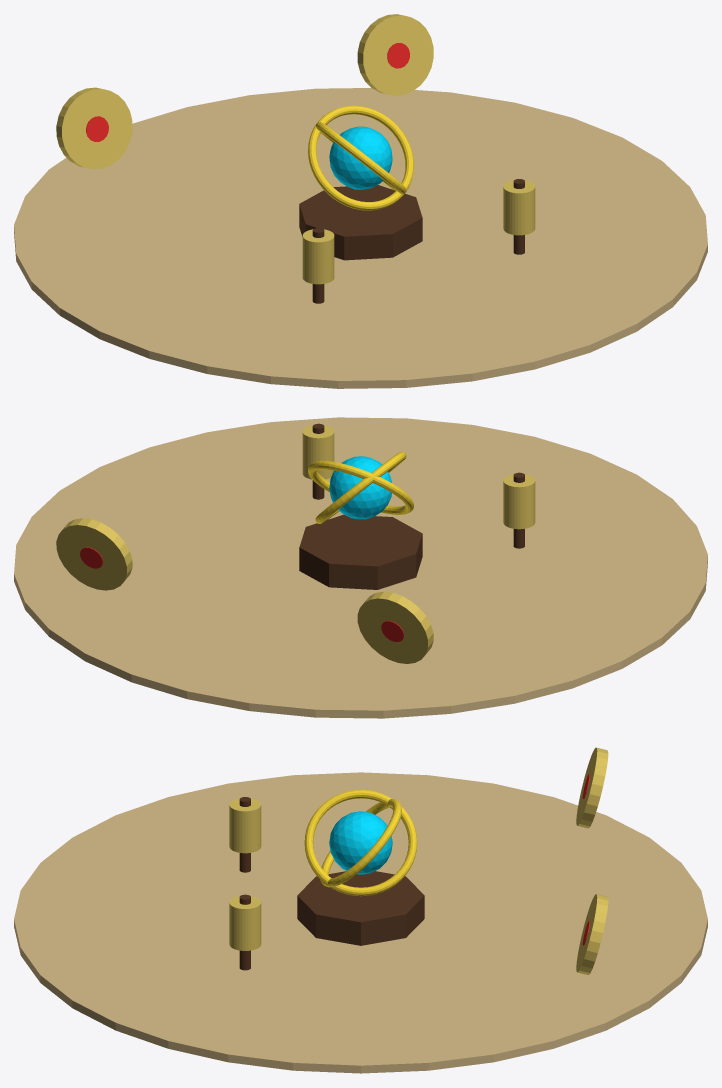
Rendered from Arena_Entrenamiento_Spectacular.obj.
3 views of the same model, one above another, from view 1: azimuth 30°, elevation 25°; view 2: azimuth 150°, elevation 25°; view 3: azimuth 270°, elevation 25° (orthographic).
Visible parts, largest first — view 1: Sand_Arena_Plate, Pedestal_Base, Archery_Target_1, Archery_Target_2, Armillary_Ring_1, Floating_Mana_Orb, Dummy_Body_1, Dummy_Body_2, Armillary_Ring_2; view 2: Sand_Arena_Plate, Pedestal_Base, Archery_Target_2, Archery_Target_1, Floating_Mana_Orb, Dummy_Body_1, Armillary_Ring_1, Dummy_Body_2, Armillary_Ring_2; view 3: Sand_Arena_Plate, Pedestal_Base, Floating_Mana_Orb, Armillary_Ring_2, Dummy_Body_1, Dummy_Body_2, Archery_Target_1, Archery_Target_2, Armillary_Ring_1.
Part boxes in pixels (<box>): Sand_Arena_Plate: <box>14,88,707,388</box>; Pedestal_Base: <box>299,185,422,260</box>; Archery_Target_1: <box>56,87,132,169</box>; Archery_Target_2: <box>357,14,433,95</box>; Armillary_Ring_1: <box>308,105,413,210</box>; Floating_Mana_Orb: <box>329,126,392,189</box>; Dummy_Body_1: <box>302,229,334,284</box>; Dummy_Body_2: <box>503,180,535,235</box>; Armillary_Ring_2: <box>316,122,406,194</box>; Sand_Arena_Plate: <box>14,417,707,718</box>; Pedestal_Base: <box>299,514,422,589</box>; Archery_Target_2: <box>56,518,132,590</box>; Archery_Target_1: <box>357,591,433,663</box>; Floating_Mana_Orb: <box>329,456,391,519</box>; Dummy_Body_1: <box>503,474,535,529</box>; Armillary_Ring_1: <box>308,460,413,514</box>; Dummy_Body_2: <box>302,425,334,479</box>; Armillary_Ring_2: <box>315,451,406,523</box>; Sand_Arena_Plate: <box>14,772,707,1073</box>; Pedestal_Base: <box>297,871,424,945</box>; Floating_Mana_Orb: <box>329,811,392,874</box>; Armillary_Ring_2: <box>304,790,417,896</box>; Dummy_Body_1: <box>229,798,261,853</box>; Dummy_Body_2: <box>229,896,261,950</box>; Archery_Target_1: <box>576,747,608,828</box>; Archery_Target_2: <box>576,894,608,975</box>; Armillary_Ring_1: <box>320,799,401,887</box>.
Size of the model in its own units: 24 by 4.62 by 24.
